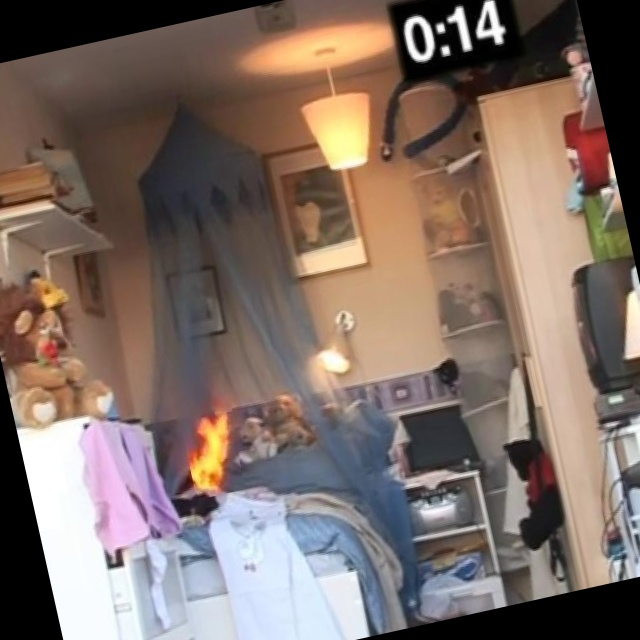fire: (153, 392, 280, 511)
